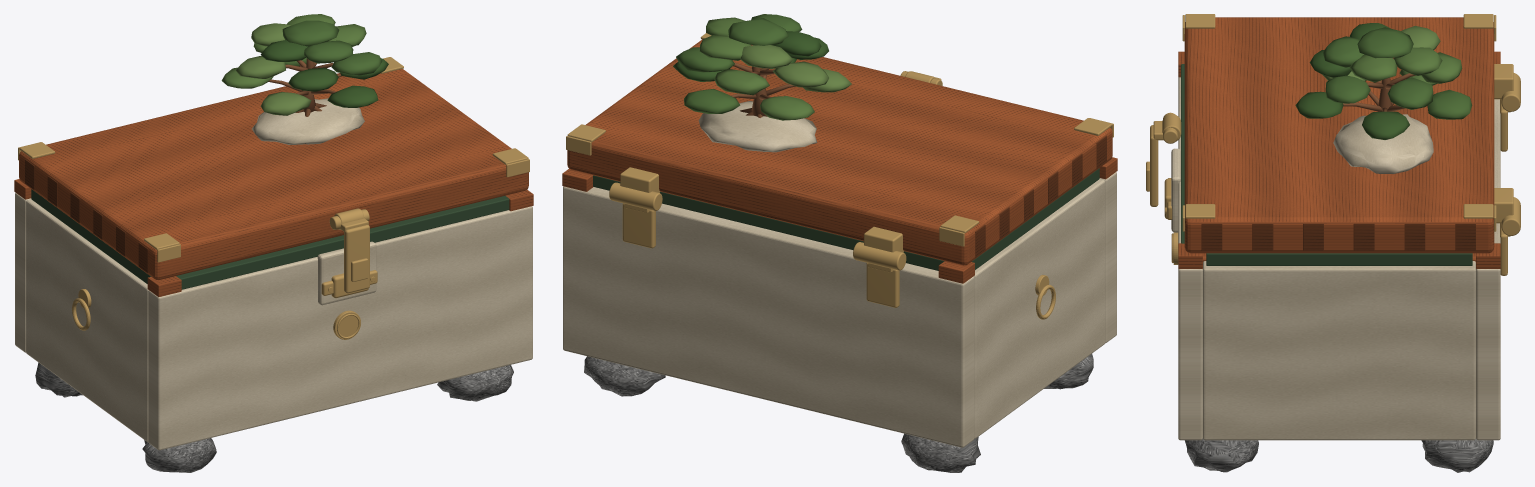
Rendered from lebanon.glb.
The picture shows the model from 3 angles, left to right: view 1: azimuth 30°, elevation 25°; view 2: azimuth 150°, elevation 25°; view 3: azimuth 270°, elevation 25°; orthographic projection. The views are drawn at different scales.
Visible parts, largest first — view 1: Limestone / long wall, Lid / polished slab, Limestone / end wall, Mineral seam / long, Terrain / limestone root bed, Granite foot, Granite foot.002, Limestone / long wall.001, Cedar / clasp seat, Latch / lifting hasp, Mineral seam / side, Lebanon cedar / crown (+12 smaller); view 2: Limestone / long wall.001, Lid / polished slab, Limestone / end wall, Terrain / limestone root bed, Mineral seam / long.001, Granite foot.001, Limestone / long wall, Granite foot.003, Mineral seam / side, Lebanon cedar / crown, Hinge / fixed mount, Hinge / fixed mount.001 (+14 smaller); view 3: Lid / polished slab, Limestone / end wall.001, Limestone / long wall.001, Limestone / long wall, Terrain / limestone root bed, Mineral seam / side.001, Granite foot.002, Granite foot.003, Lebanon cedar / crown, Lebanon cedar / canopy tier 1, Lebanon cedar / canopy tier 0, Lebanon cedar / canopy tier 0.001 (+27 smaller).
Part boxes in pixels (<box>): Limestone / long wall: <box>148,206,532,450</box>; Lid / polished slab: <box>19,69,528,279</box>; Limestone / end wall: <box>26,199,148,442</box>; Mineral seam / long: <box>176,196,509,289</box>; Terrain / limestone root bed: <box>252,98,364,144</box>; Granite foot: <box>142,438,216,472</box>; Granite foot.002: <box>437,365,513,401</box>; Limestone / long wall.001: <box>15,192,31,352</box>; Cedar / clasp seat: <box>317,241,376,305</box>; Latch / lifting hasp: <box>344,225,369,293</box>; Mineral seam / side: <box>31,189,150,283</box>; Lebanon cedar / crown: <box>282,20,339,46</box>; Limestone / long wall.001: <box>563,186,974,447</box>; Lid / polished slab: <box>567,39,1112,265</box>; Limestone / end wall: <box>974,179,1105,438</box>; Terrain / limestone root bed: <box>698,101,817,152</box>; Mineral seam / long.001: <box>593,175,944,270</box>; Granite foot.001: <box>901,433,980,472</box>; Limestone / long wall: <box>1099,172,1116,343</box>; Granite foot.003: <box>584,356,665,396</box>; Mineral seam / side: <box>971,168,1099,269</box>; Lebanon cedar / crown: <box>728,18,788,45</box>; Hinge / fixed mount: <box>866,263,899,307</box>; Hinge / fixed mount.001: <box>622,203,655,248</box>; Lid / polished slab: <box>1184,17,1494,253</box>; Limestone / end wall.001: <box>1203,261,1475,440</box>; Limestone / long wall.001: <box>1476,99,1500,440</box>; Limestone / long wall: <box>1178,77,1202,440</box>; Terrain / limestone root bed: <box>1333,114,1433,173</box>; Mineral seam / side.001: <box>1206,253,1472,265</box>; Granite foot.002: <box>1185,439,1258,472</box>; Granite foot.003: <box>1421,439,1493,472</box>; Lebanon cedar / crown: <box>1357,27,1413,58</box>; Lebanon cedar / canopy tier 1: <box>1387,77,1433,109</box>; Lebanon cedar / canopy tier 0: <box>1362,111,1409,139</box>; Lebanon cedar / canopy tier 0.001: <box>1427,89,1472,119</box>.
Bounding box in the file's own units: 3.79 × 3.23 × 2.88.
Materials: 11 (4 with a texture image).
